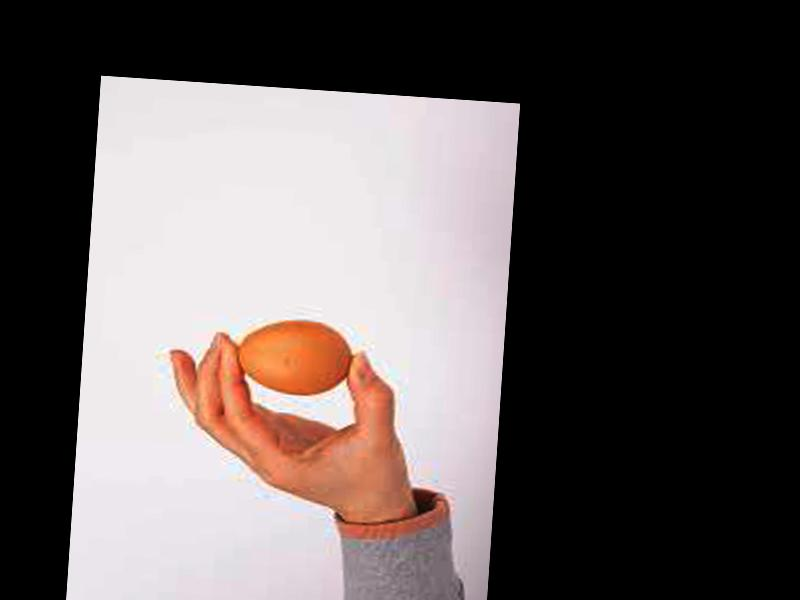Eggs: (233, 316, 351, 395)
